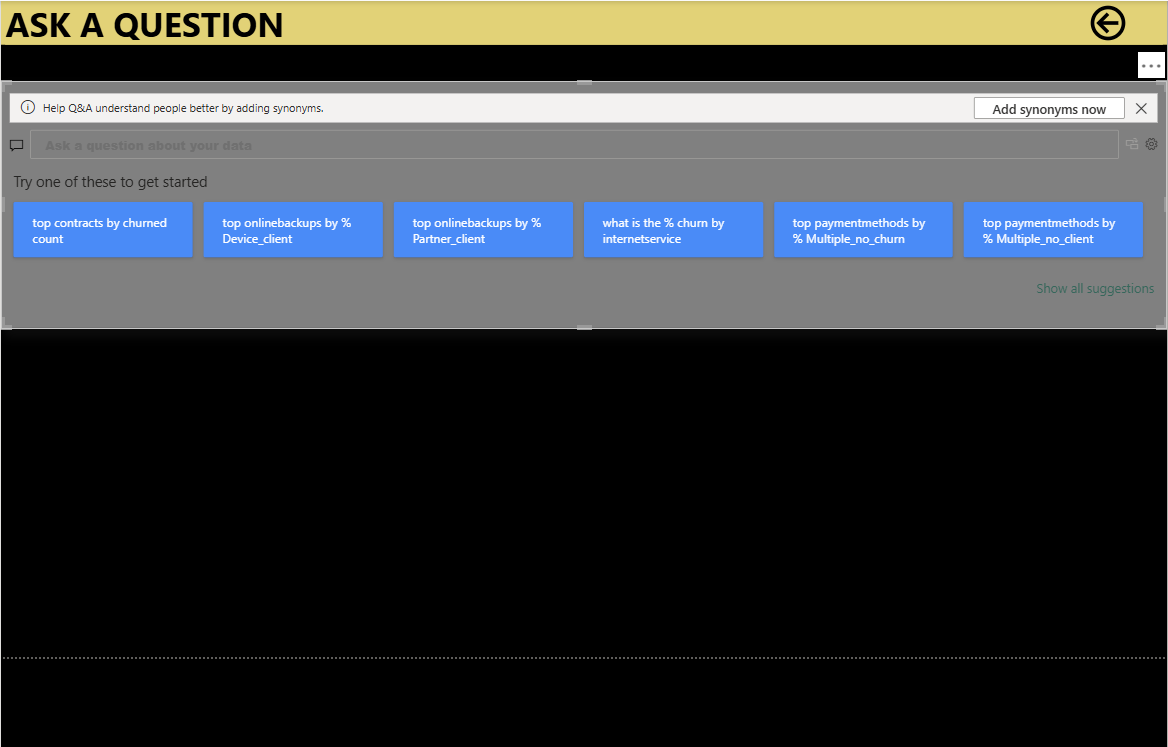

The dashboard page shown, as its layout file describes it:
{"tool":"powerbi","page":{"name":"ASK a QUESTION","canvas":[1280,720],"ordinal":3},"visuals":[{"type":"textbox","title":"ASK A QUESTION","box":[0,0,1280,48.3],"z":0},{"type":"actionButton","box":[1191.7,0,65,48.3],"z":1000},{"type":"qnaVisual","box":[0,88.3,1280,271.7],"z":2000}]}

Visuals, with their boxes in screenshot pixels (x1, y1, x2, y2):
"ASK A QUESTION" textbox: 0:0:1152:43
actionButton: 1072:0:1131:43
qnaVisual: 0:79:1152:324
